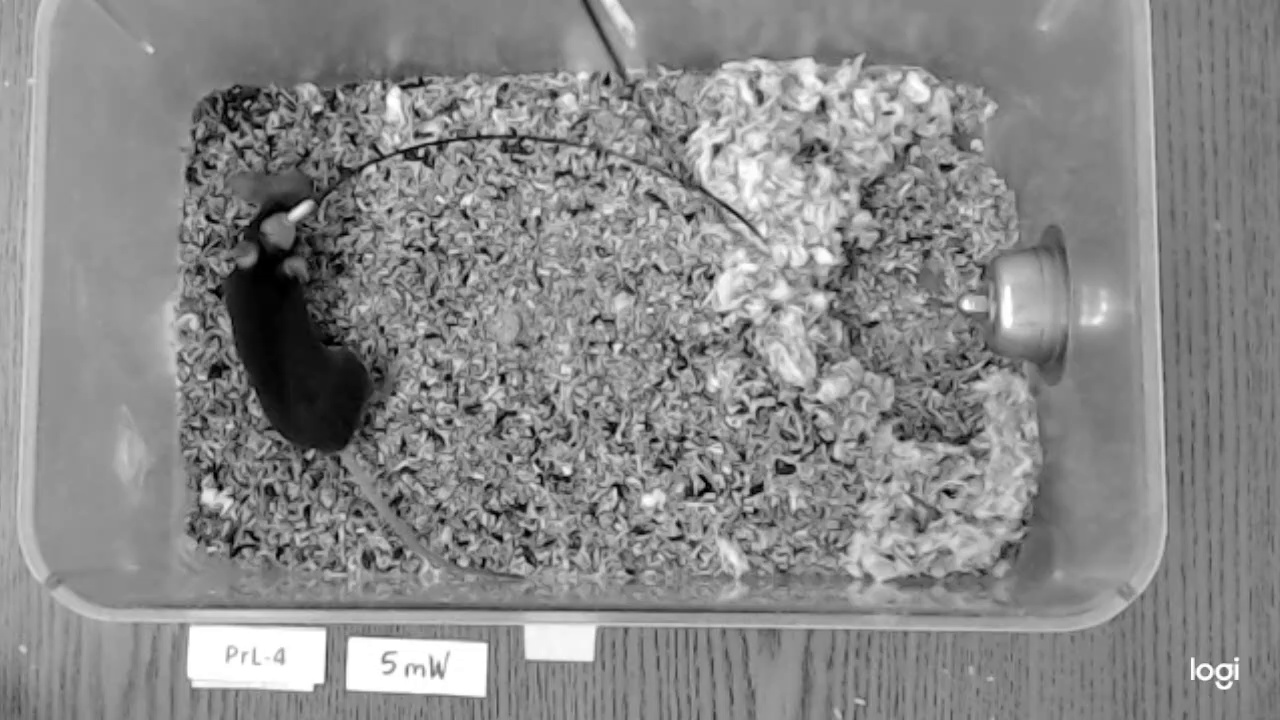parent-mice: (221, 200, 370, 450)
